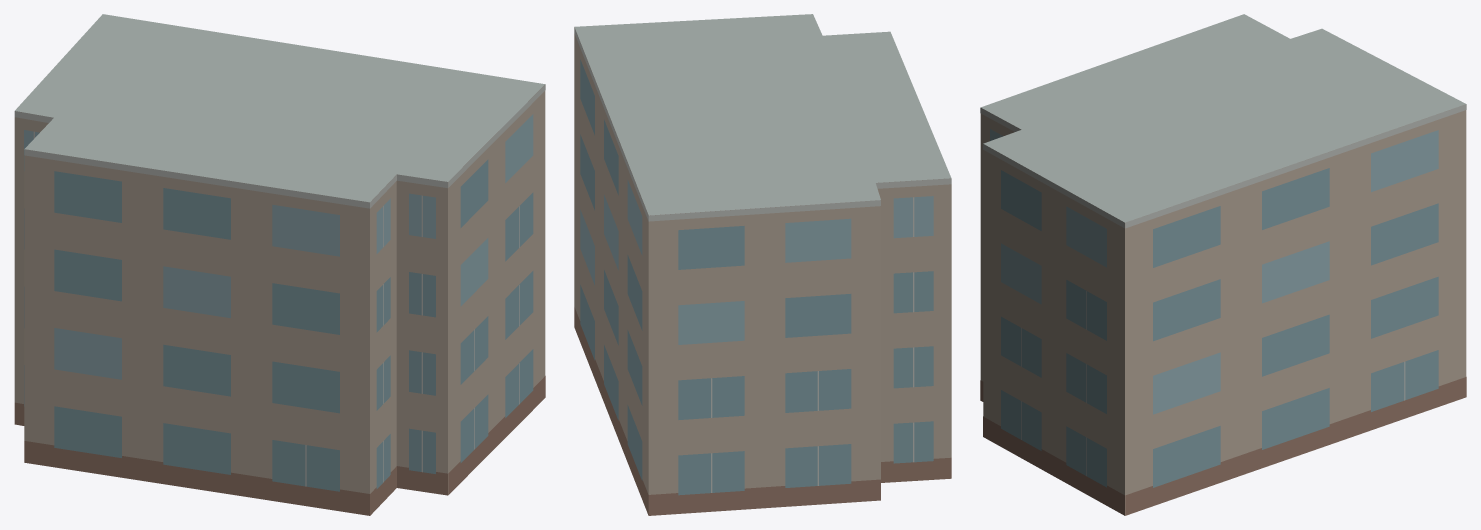
The model's file is survey-upis-32840280.glb.
3 renders of one model, left to right at view 1: azimuth 30°, elevation 25°; view 2: azimuth 150°, elevation 25°; view 3: azimuth 270°, elevation 25°, orthographic. The views are drawn at different scales.
Parts seen in each view (by area): view 1: survey-upis-32840280.tmp; view 2: survey-upis-32840280.tmp; view 3: survey-upis-32840280.tmp.
Part boxes in pixels (<box>): survey-upis-32840280.tmp: <box>14,14,545,515</box>; survey-upis-32840280.tmp: <box>574,14,951,515</box>; survey-upis-32840280.tmp: <box>980,14,1466,515</box>.
Bounding box in the file's own units: 18.63 × 12.2 × 18.33.
